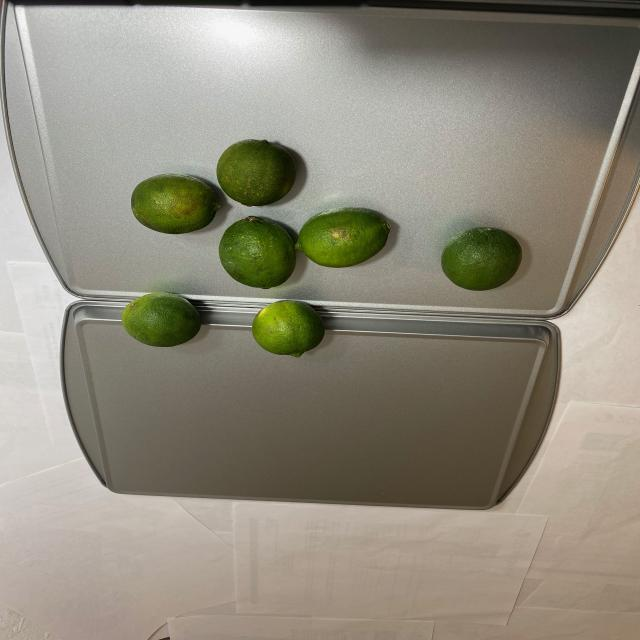lemon: (118, 134, 521, 356)
